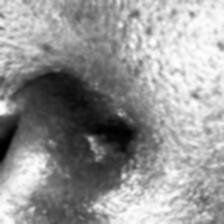Unclassified: (86, 120, 146, 167)
